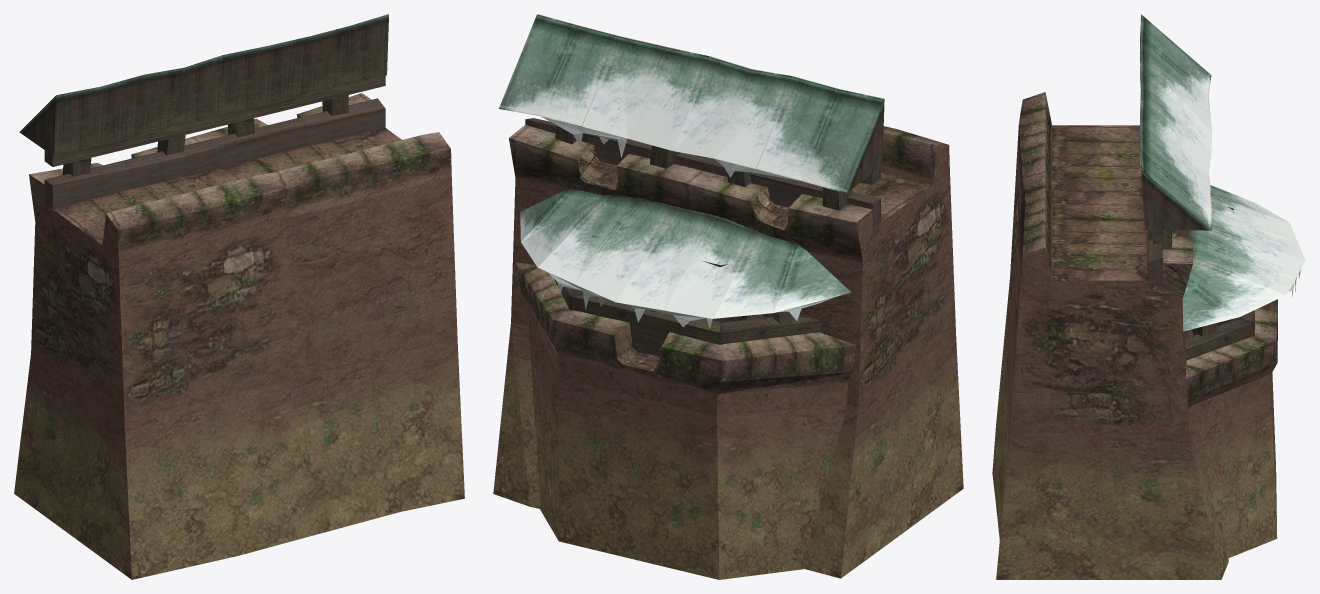
File: C1SMWA20LGC_H.obj
The picture shows the model from 3 angles, left to right: view 1: azimuth 30°, elevation 25°; view 2: azimuth 150°, elevation 25°; view 3: azimuth 270°, elevation 25°; orthographic projection. The views are drawn at different scales.
Parts seen in each view (by area): view 1: Node 0; view 2: Node 0; view 3: Node 0.
Part boxes in pixels (x1,y1,x2,y2): Node 0: (14,14,464,579); Node 0: (493,14,963,579); Node 0: (992,14,1305,579).
Bounding box in the file's own units: 9.97 × 12.33 × 8.49.
Materials: 4 (4 with a texture image).
